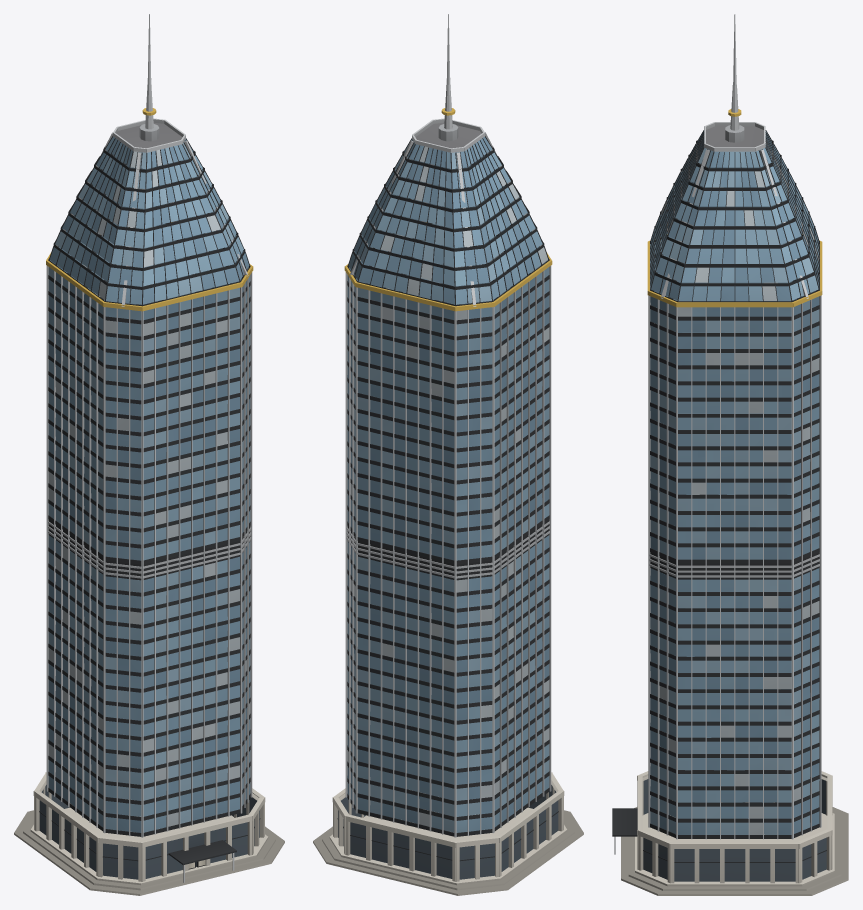
3 renders of one model, left to right at view 1: azimuth 30°, elevation 25°; view 2: azimuth 150°, elevation 25°; view 3: azimuth 270°, elevation 25°, orthographic.
Parts seen in each view (by area): view 1: t0; view 2: t0; view 3: t0.
Part boxes in pixels (left/top/right/bottom): t0: left=14, top=14, right=284, bottom=895; t0: left=313, top=14, right=583, bottom=895; t0: left=612, top=14, right=848, bottom=895.
Bounding box in the file's own units: 49.65 × 201 × 51.58.
